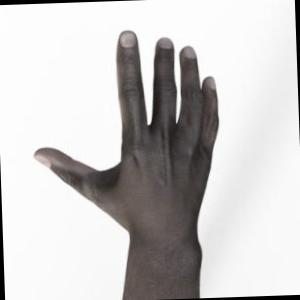paper: (34, 31, 218, 300)
